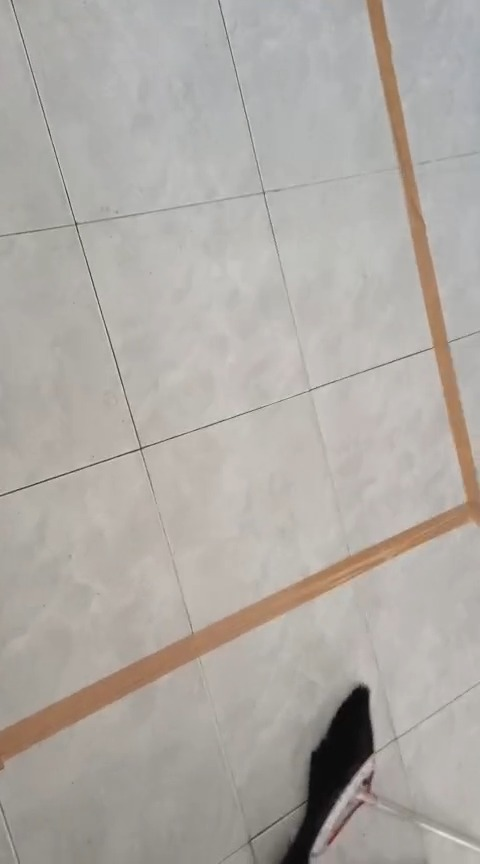floor marking: (0, 0, 479, 761)
